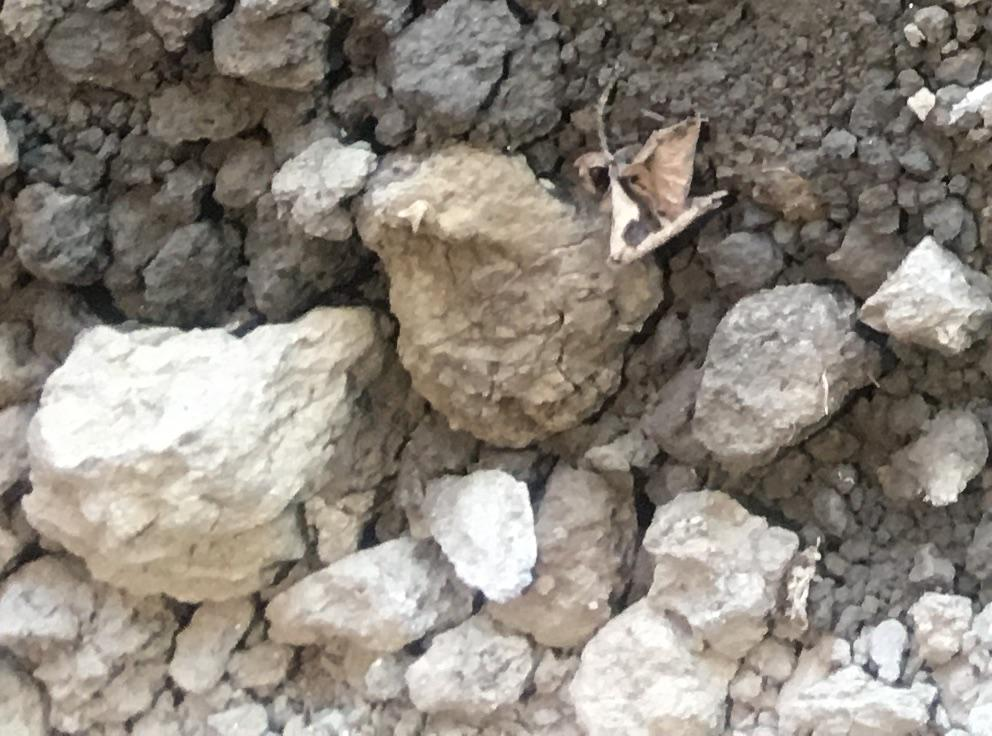block: (20, 312, 381, 606), (355, 142, 650, 446), (570, 490, 791, 736), (264, 466, 537, 653), (691, 269, 879, 474)
